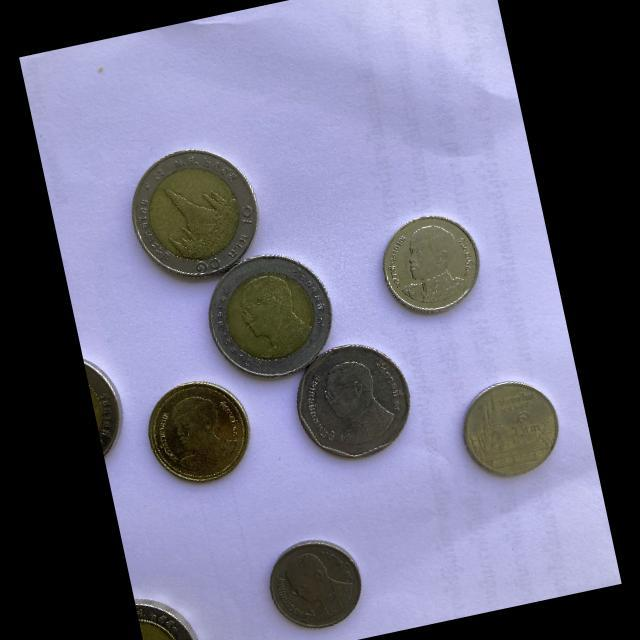1 Bath: (461, 378, 562, 482), (384, 214, 484, 316), (267, 539, 369, 633)
10 Bath: (130, 144, 262, 284), (212, 256, 336, 379), (75, 354, 125, 469), (129, 594, 200, 640)
2 Bath: (144, 380, 256, 486)
5 Bath: (286, 343, 416, 464)
